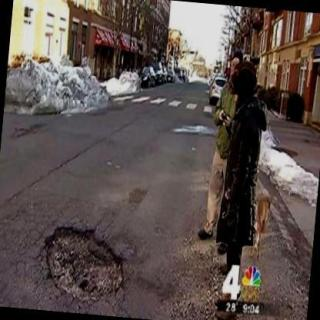pothole: (45, 227, 125, 298)
